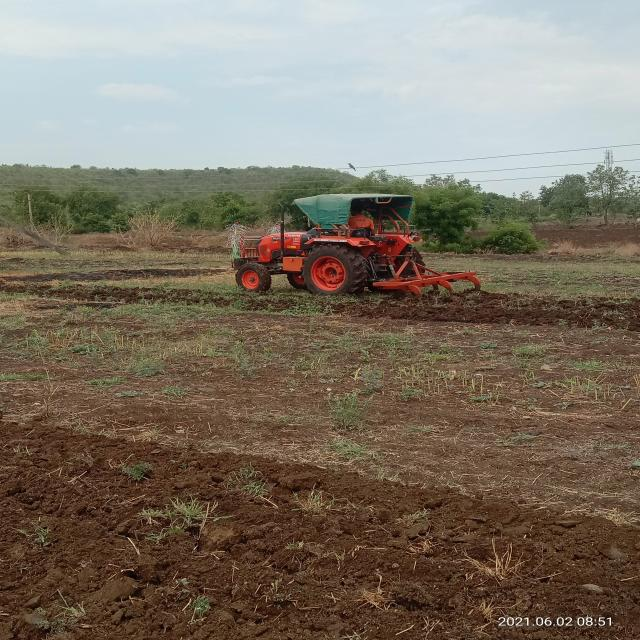tractor: (241, 191, 485, 303)
